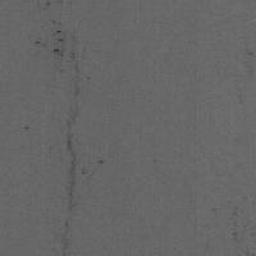Inclusion: (64, 35, 80, 256), (232, 207, 239, 242)
